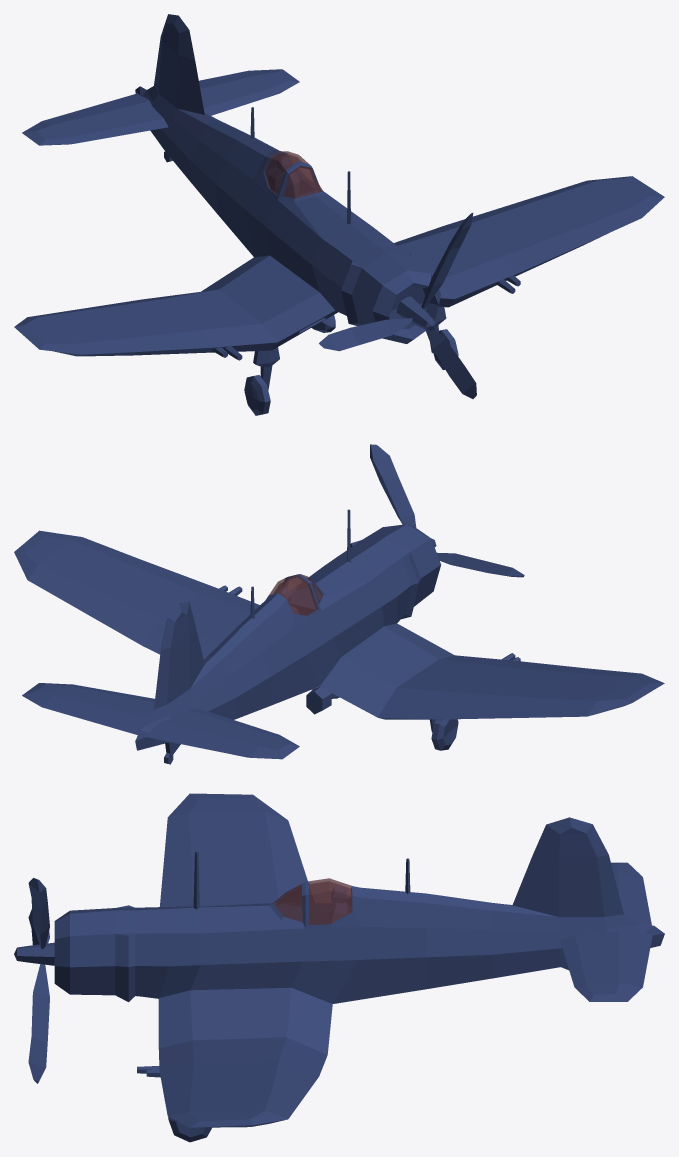
Rendered from Plane-Vought-F4U.fbx.
3 renders of one model, top to bottom at view 1: azimuth 30°, elevation 25°; view 2: azimuth 150°, elevation 25°; view 3: azimuth 270°, elevation 25°, orthographic. The views are drawn at different scales.
Visible parts, largest first — view 1: vought-body, vought-propeller, vought-cockpit, vought-wheel_R, vought-pilot; view 2: vought-body, vought-propeller, vought-cockpit, vought-wheel_R, vought-bomb_R; view 3: vought-body, vought-propeller, vought-cockpit, vought-wheel_L.
Part boxes in pixels (bbox=[...]): vought-body: bbox=[14, 14, 664, 360]; vought-propeller: bbox=[319, 213, 476, 398]; vought-cockpit: bbox=[254, 149, 314, 199]; vought-wheel_R: bbox=[244, 375, 270, 415]; vought-pilot: bbox=[268, 155, 299, 196]; vought-body: bbox=[14, 509, 664, 764]; vought-propeller: bbox=[370, 444, 524, 577]; vought-cockpit: bbox=[266, 574, 320, 628]; vought-wheel_R: bbox=[431, 719, 458, 750]; vought-bomb_R: bbox=[306, 686, 339, 714]; vought-body: bbox=[54, 793, 664, 1127]; vought-propeller: bbox=[14, 878, 54, 1083]; vought-cockpit: bbox=[305, 878, 361, 928]; vought-wheel_L: bbox=[168, 1117, 211, 1142].
Size of the model in its own units: 12.28 by 4.69 by 10.11.
